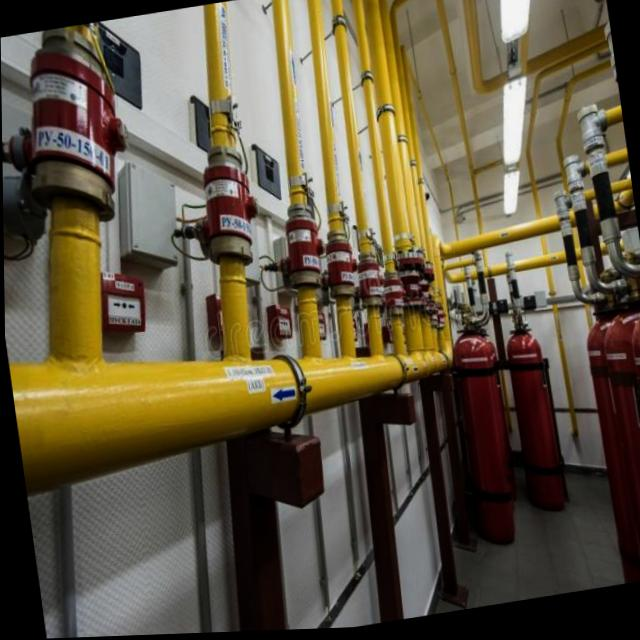FireExtinguisher: (441, 316, 522, 557), (573, 303, 640, 589), (498, 311, 568, 520), (595, 287, 640, 586), (623, 302, 640, 582)
